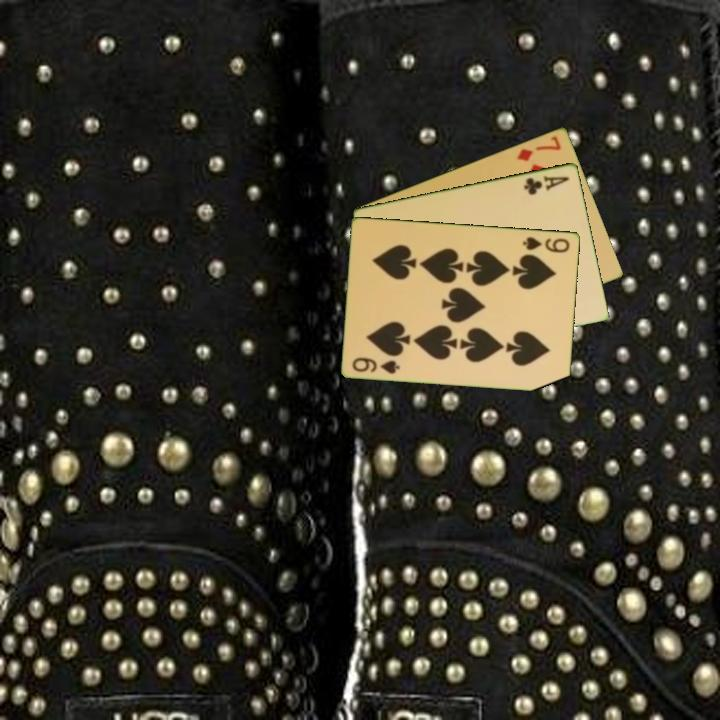7d: (513, 132, 564, 164)
9s: (349, 353, 403, 376), (520, 233, 573, 255)
Ac: (521, 171, 572, 197)
